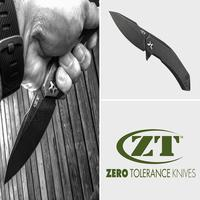knife: (2, 2, 91, 188), (107, 7, 192, 93)
